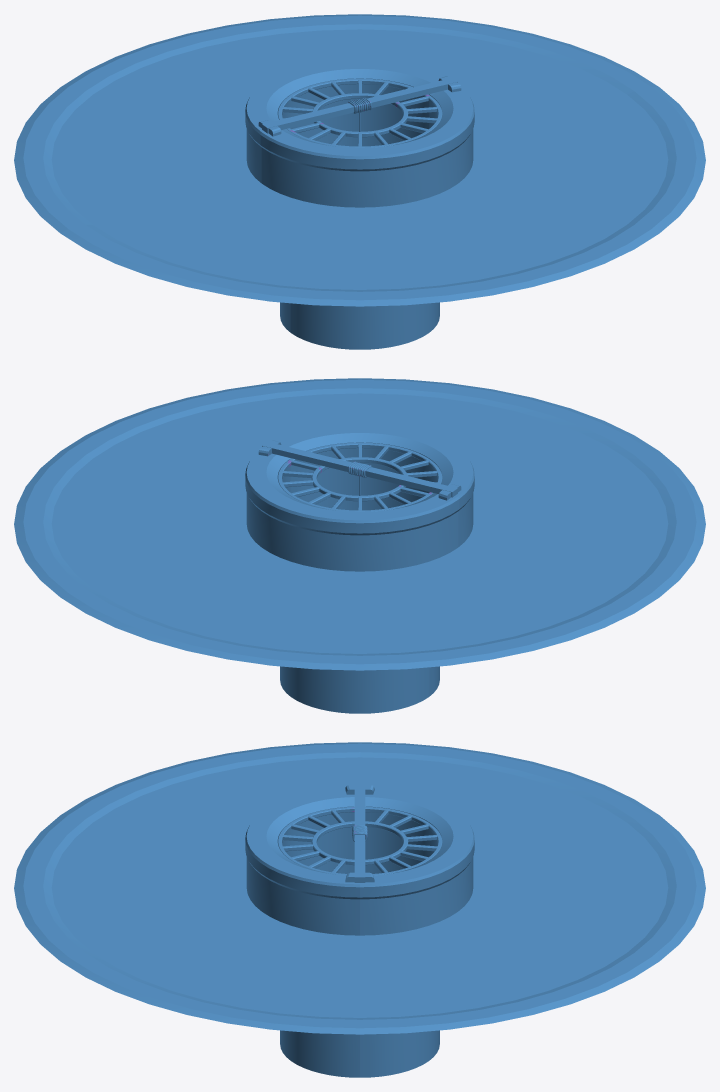
Rendered from Well.fbx.
3 renders of one model, top to bottom at view 1: azimuth 30°, elevation 25°; view 2: azimuth 150°, elevation 25°; view 3: azimuth 270°, elevation 25°, orthographic.
Visible parts, largest first — view 1: 000-0-0; view 2: 000-0-0; view 3: 000-0-0.
Boxes of the visible parts, x1,y1,x2,y2 form: 000-0-0: [14, 14, 705, 349]; 000-0-0: [14, 378, 705, 713]; 000-0-0: [14, 742, 705, 1077].
Size of the model in its own units: 1221 by 418 by 1221.
